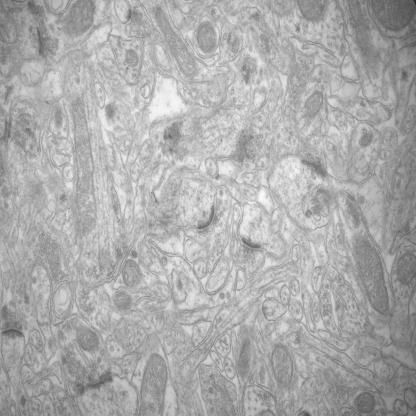mitochondria: (70, 94, 98, 238), (351, 230, 391, 318), (153, 4, 198, 82), (139, 352, 170, 416), (269, 340, 294, 392), (394, 251, 416, 289), (196, 19, 219, 55), (302, 90, 324, 122), (76, 324, 100, 353), (121, 255, 142, 288), (110, 289, 136, 312), (353, 390, 376, 414), (124, 47, 140, 68)
